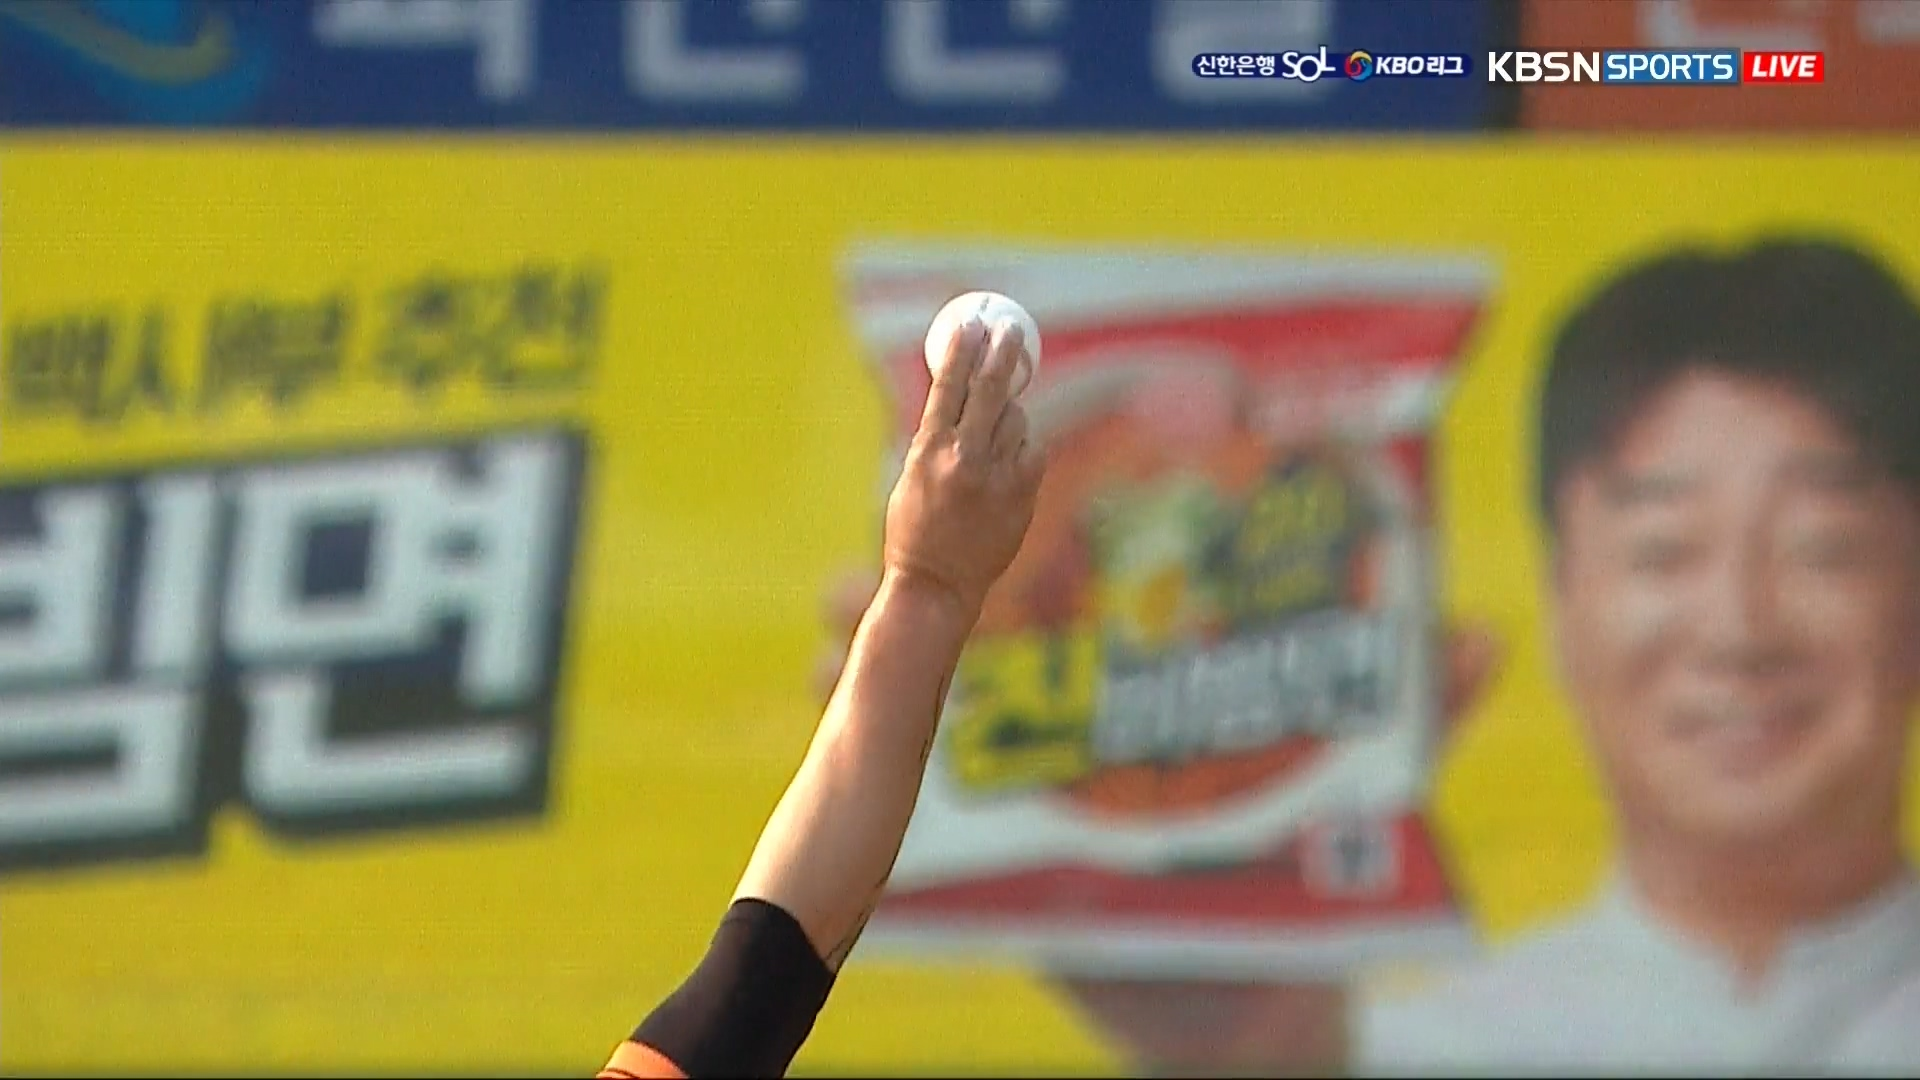zoomin_hand: (707, 272, 1125, 1034)
